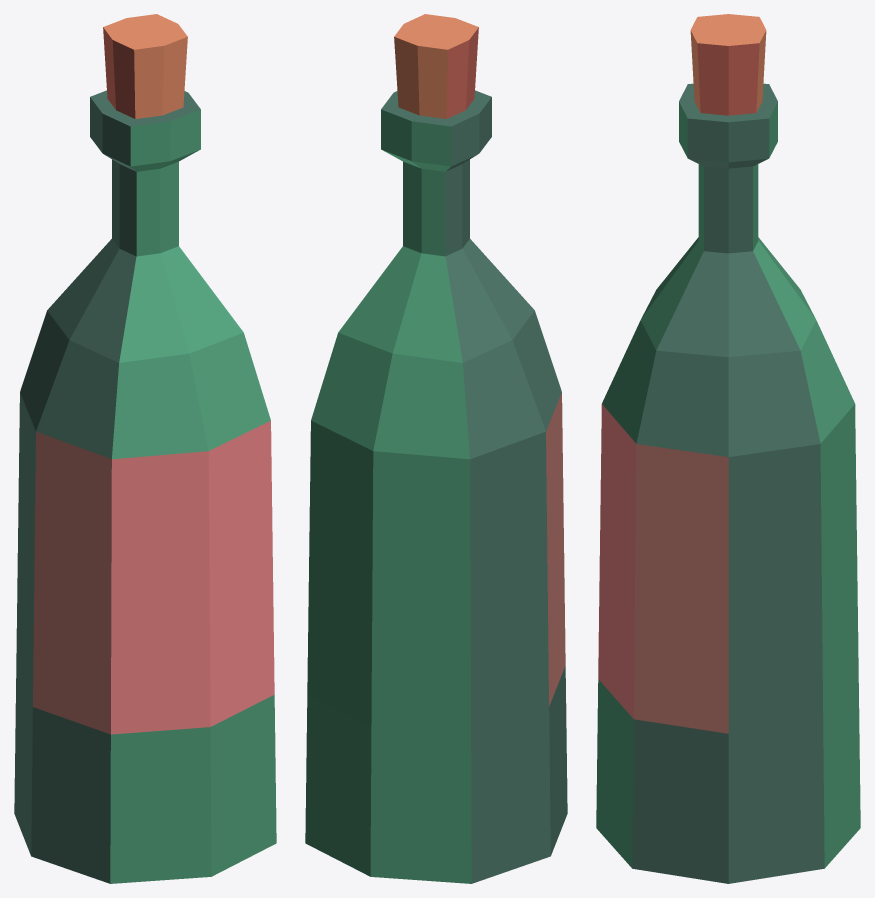
The model's file is Wine Bottle.fbx.
3 views of the same model, side by side, from view 1: azimuth 30°, elevation 25°; view 2: azimuth 150°, elevation 25°; view 3: azimuth 270°, elevation 25° (orthographic).
Parts seen in each view (by area): view 1: Wine Bottle; view 2: Wine Bottle; view 3: Wine Bottle.
Boxes of the visible parts, x1=… form: Wine Bottle: x1=14, y1=14, x2=276, y2=883; Wine Bottle: x1=305, y1=14, x2=567, y2=883; Wine Bottle: x1=596, y1=14, x2=860, y2=883.
Bounding box in the file's own units: 20.08 × 66.87 × 20.08.
